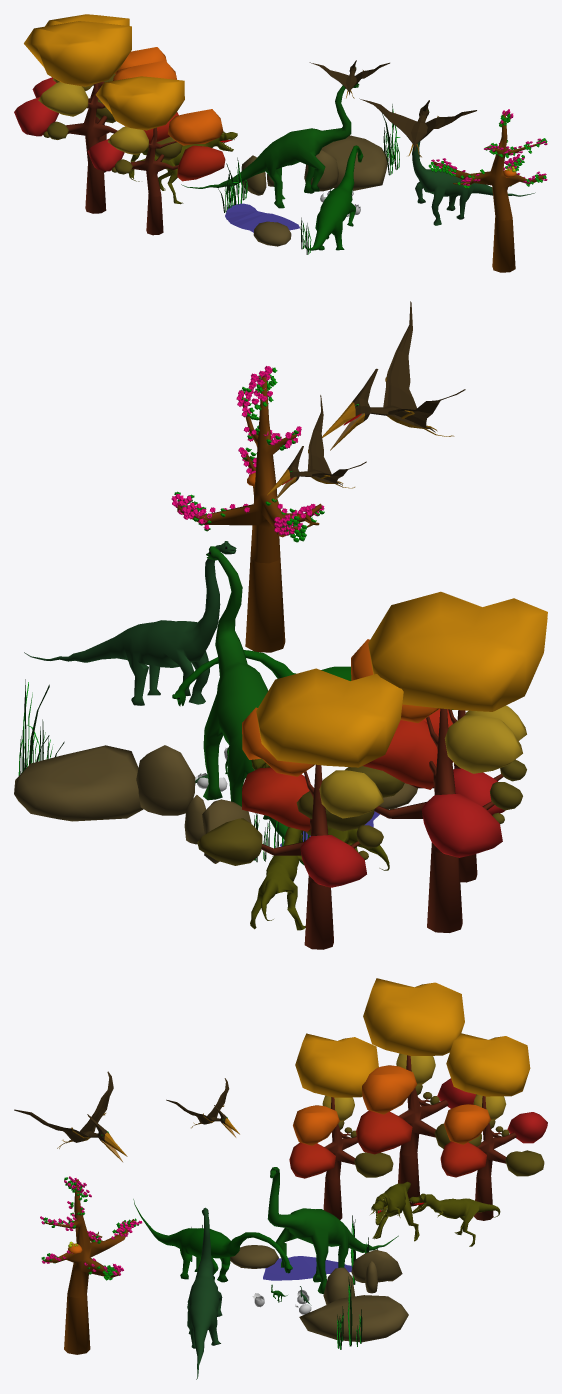
The model's file is MiniJurassicLow by Lorena Ragusa.dae.
The picture shows the model from 3 angles, top to bottom: view 1: azimuth 30°, elevation 25°; view 2: azimuth 150°, elevation 25°; view 3: azimuth 270°, elevation 25°; orthographic projection. The views are drawn at different scales.
Parts seen in each view (by area): view 1: prim0, prim3, prim2, prim1, prim4; view 2: prim0, prim3, prim2, prim1, prim4; view 3: prim0, prim3, prim2, prim1, prim4.
Boxes of the visible parts, left/top/right/bottom form: prim0: left=14, top=14, right=359, bottom=208; prim3: left=53, top=81, right=544, bottom=272; prim2: left=218, top=67, right=428, bottom=254; prim1: left=128, top=70, right=547, bottom=225; prim4: left=224, top=60, right=547, bottom=254; prim0: left=197, top=546, right=547, bottom=887; prim3: left=177, top=376, right=503, bottom=949; prim2: left=14, top=404, right=453, bottom=863; prim1: left=24, top=367, right=454, bottom=930; prim4: left=18, top=301, right=465, bottom=860; prim0: left=267, top=978, right=547, bottom=1302; prim3: left=45, top=1055, right=516, bottom=1354; prim2: left=101, top=1117, right=408, bottom=1349; prim1: left=41, top=1105, right=500, bottom=1379; prim4: left=14, top=1071, right=376, bottom=1349.
Size of the model in its own units: 36.44 by 39 by 17.88.
